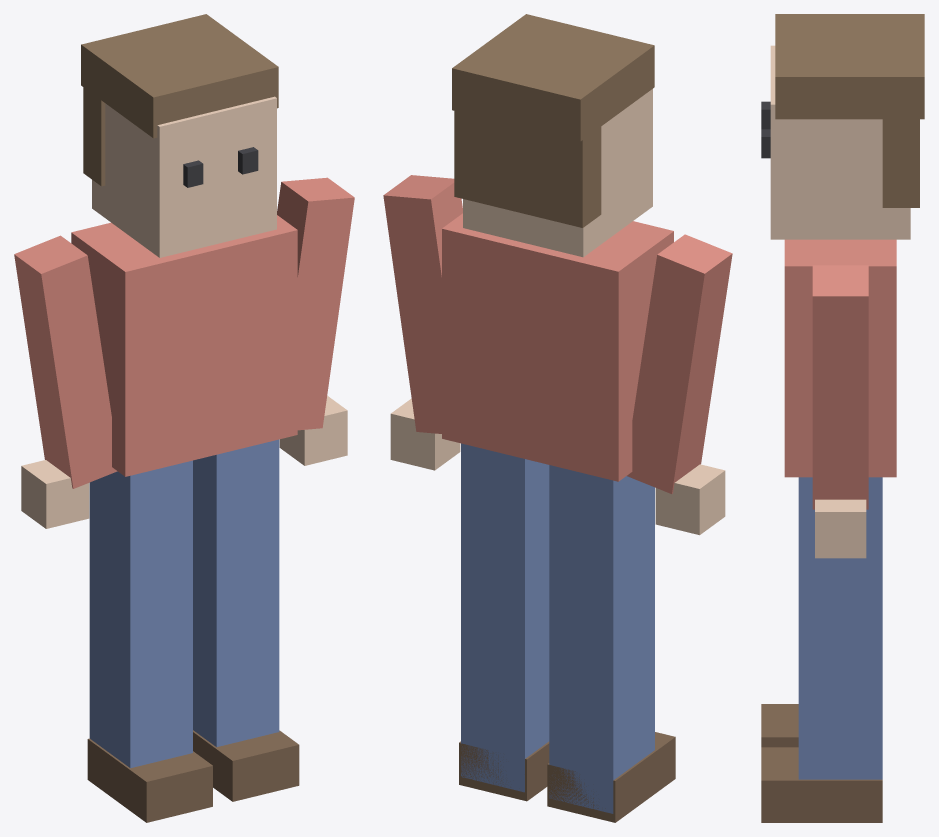
Rendered from person.glb.
3 views of the same model, side by side, from view 1: azimuth 30°, elevation 25°; view 2: azimuth 150°, elevation 25°; view 3: azimuth 270°, elevation 25° (orthographic). The views are drawn at different scales.
Visible parts, largest first — view 1: person; view 2: person; view 3: person.
Boxes of the visible parts, left/top/right/bottom form: person: left=14, top=14, right=354, bottom=822; person: left=383, top=14, right=732, bottom=822; person: left=761, top=14, right=924, bottom=822.
Bounding box in the file's own units: 0.8008 × 1.75 × 0.35.
